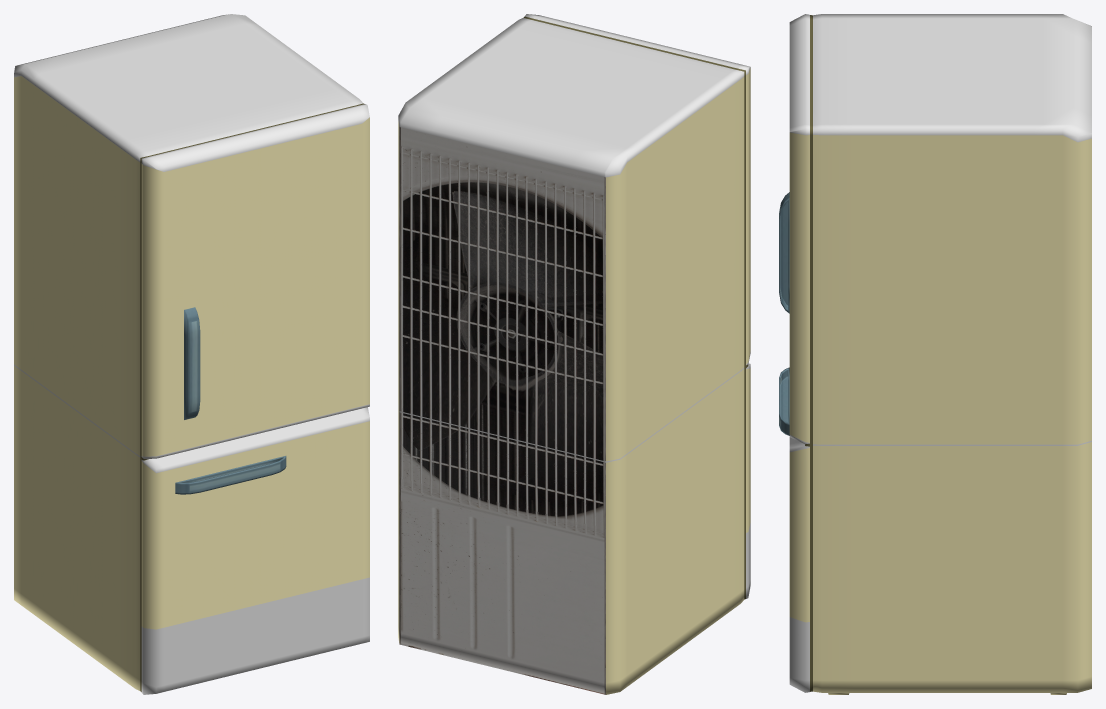
File: refrigerator.glb
3 views of the same model, side by side, from view 1: azimuth 30°, elevation 25°; view 2: azimuth 150°, elevation 25°; view 3: azimuth 270°, elevation 25° (orthographic). The views are drawn at different scales.
Parts seen in each view (by area): view 1: Refrigerator; view 2: Refrigerator; view 3: Refrigerator.
Part boxes in pixels (bbox=[...]): Refrigerator: bbox=[14, 14, 369, 694]; Refrigerator: bbox=[398, 14, 750, 694]; Refrigerator: bbox=[779, 14, 1091, 694].
Size of the model in its own units: 0.7903 by 1.83 by 0.9072.
Materials: 5 (2 with a texture image).
